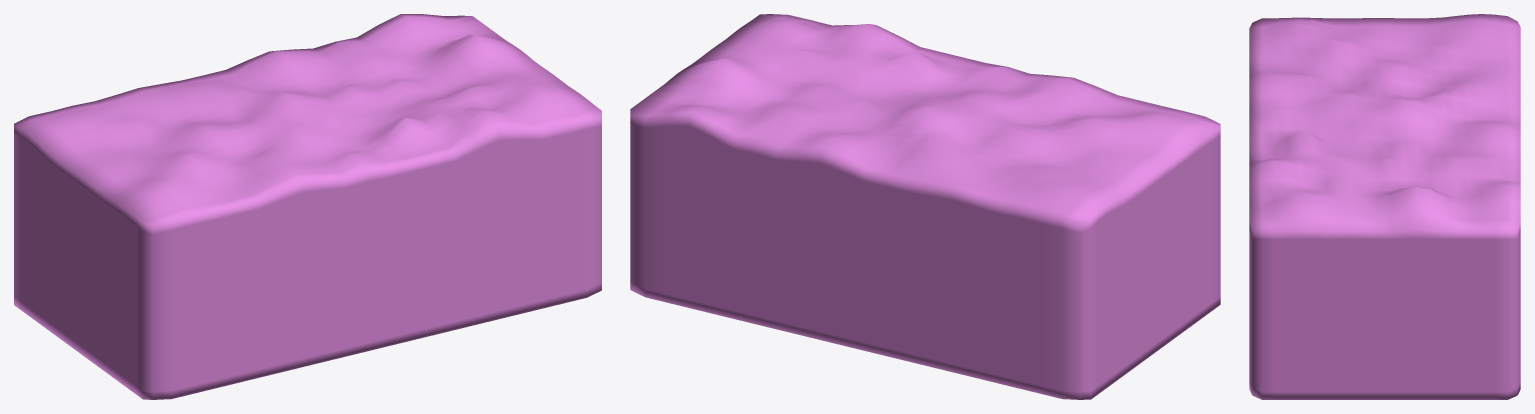
File: fresa_lleno.fbx
The picture shows the model from 3 angles, left to right: view 1: azimuth 30°, elevation 25°; view 2: azimuth 150°, elevation 25°; view 3: azimuth 270°, elevation 25°; orthographic projection. The views are drawn at different scales.
Parts seen in each view (by area): view 1: Fresa_Lleno; view 2: Fresa_Lleno; view 3: Fresa_Lleno.
Boxes of the visible parts, x1,y1,x2,y2 form: Fresa_Lleno: (14, 14, 601, 399); Fresa_Lleno: (630, 14, 1220, 399); Fresa_Lleno: (1249, 14, 1520, 399).
Size of the model in its own units: 351 by 148 by 189.
